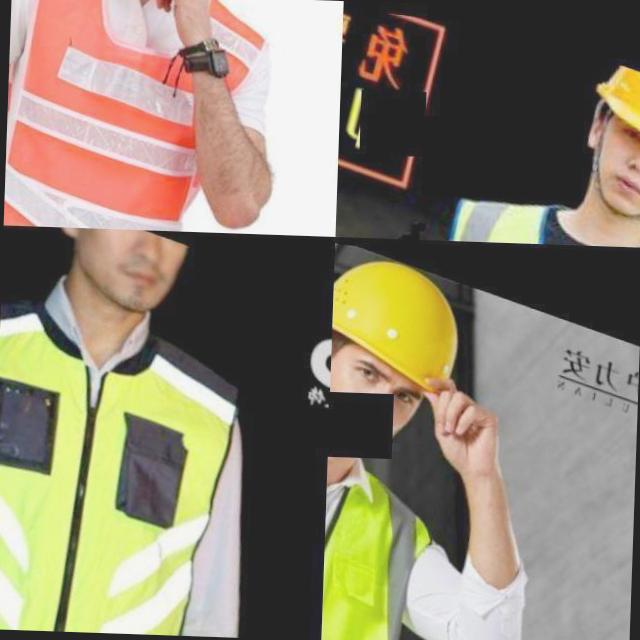vest: (0, 268, 253, 637), (3, 0, 254, 233), (321, 398, 440, 640), (405, 161, 640, 247)
